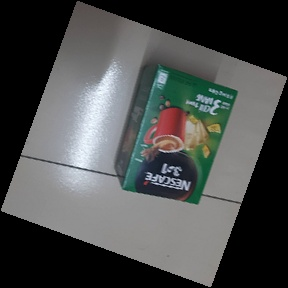Nes Rang: (112, 64, 240, 207)
